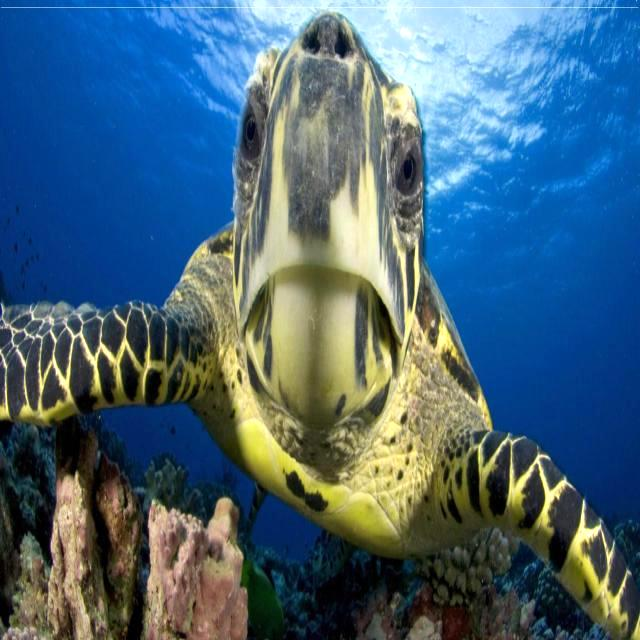Sea turtle: (1, 7, 638, 639)
